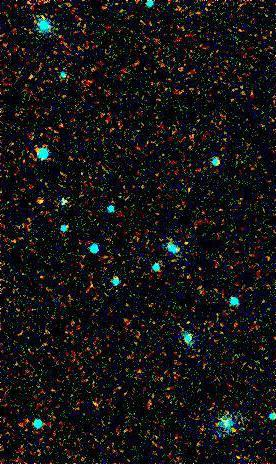star: (26, 185, 56, 215)
